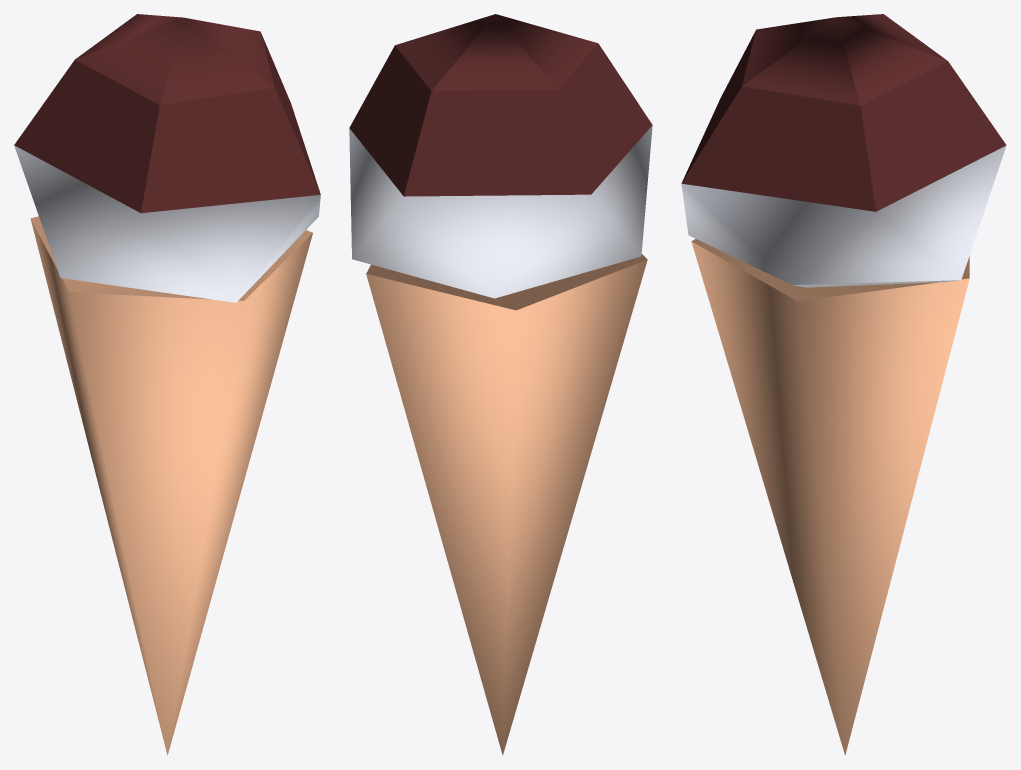
The model's file is IceCream_Cone.fbx.
3 views of the same model, side by side, from view 1: azimuth 30°, elevation 25°; view 2: azimuth 150°, elevation 25°; view 3: azimuth 270°, elevation 25° (orthographic).
Parts seen in each view (by area): view 1: IceCream_Cone; view 2: IceCream_Cone; view 3: IceCream_Cone.
Part boxes in pixels (x1,y1,x2,y2): IceCream_Cone: (14, 14, 320, 755); IceCream_Cone: (349, 14, 652, 755); IceCream_Cone: (681, 14, 1006, 755).
Bounding box in the file's own units: 74.02 × 200 × 79.01.
